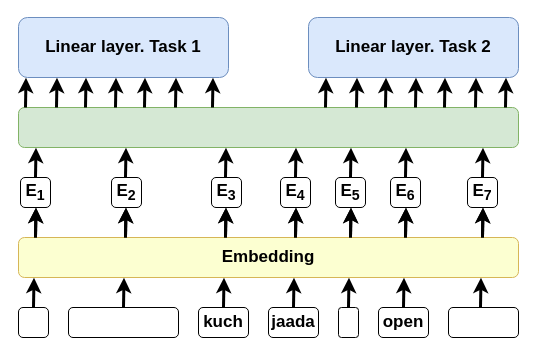
Image size: 536x355. Some labels were removed from this diagram. Here are the shapes that lost their labels. From the top down, the centre of each, then its label:
At [268,127]: "Dropout".
At [33,322]: "bkl".
At [123,322]: "interviewers".
At [348,322]: "hi".
At [483,322]: "minded".
